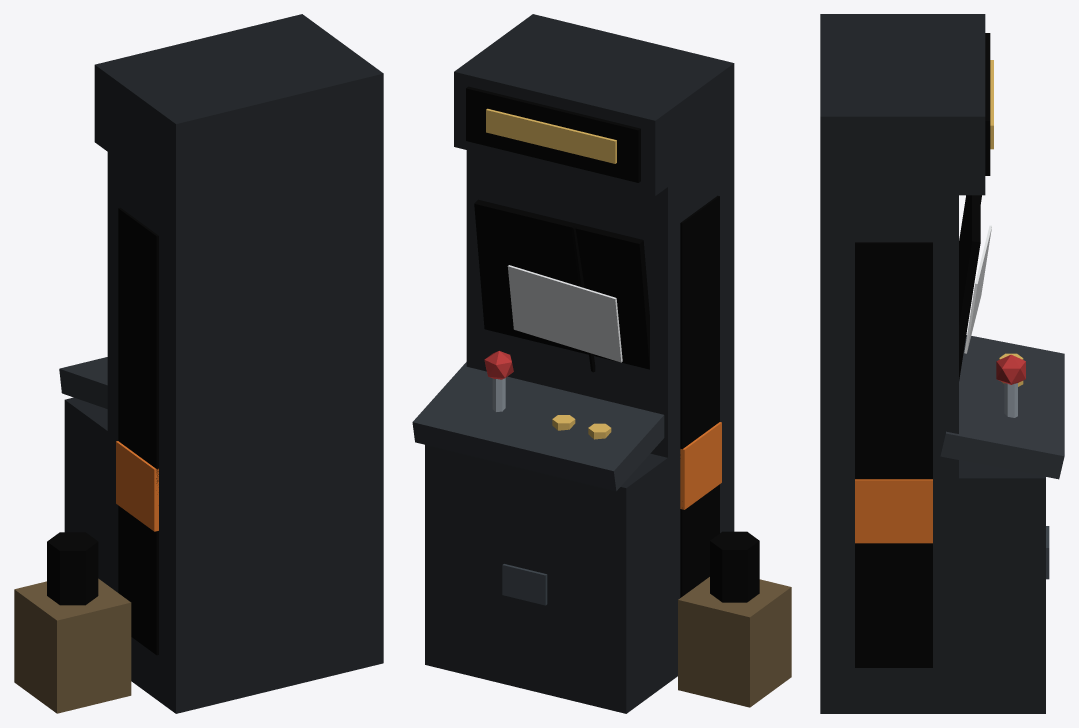
File: egg_carrier_arcade.fbx
3 views of the same model, side by side, from view 1: azimuth 30°, elevation 25°; view 2: azimuth 150°, elevation 25°; view 3: azimuth 270°, elevation 25° (orthographic). The views are drawn at different scales.
Visible parts, largest first — view 1: egg_carrier_arcade; view 2: egg_carrier_arcade; view 3: egg_carrier_arcade.
Part boxes in pixels (x1,y1,x2,y2): egg_carrier_arcade: (14, 14, 383, 713); egg_carrier_arcade: (412, 14, 791, 713); egg_carrier_arcade: (820, 14, 1064, 713).
Bounding box in the file's own units: 406 × 760 × 282.
